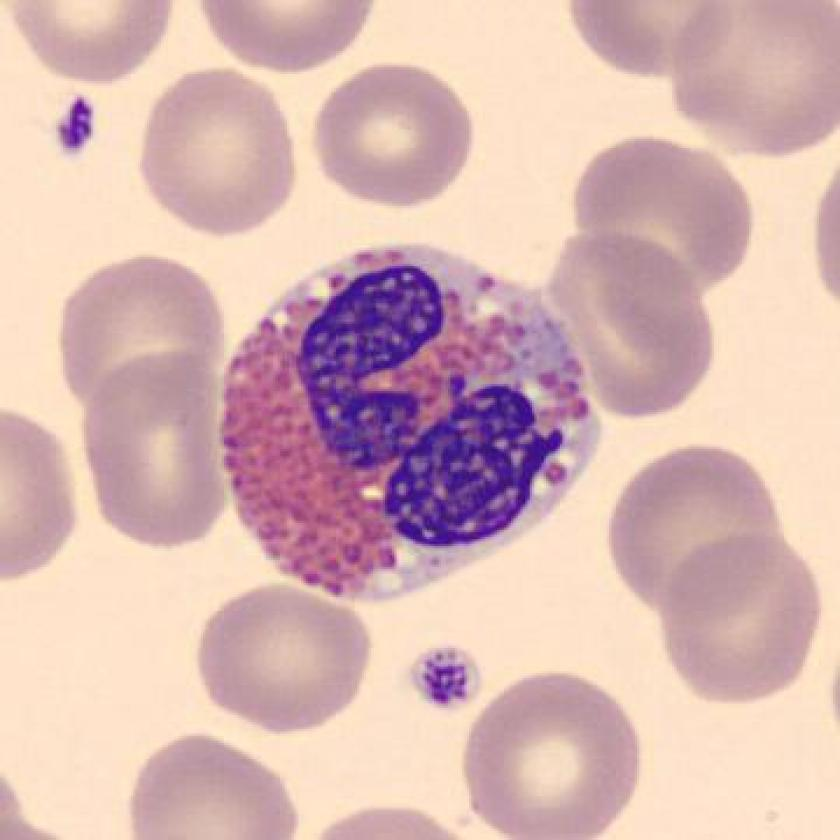eosinophil: (216, 240, 612, 622)
